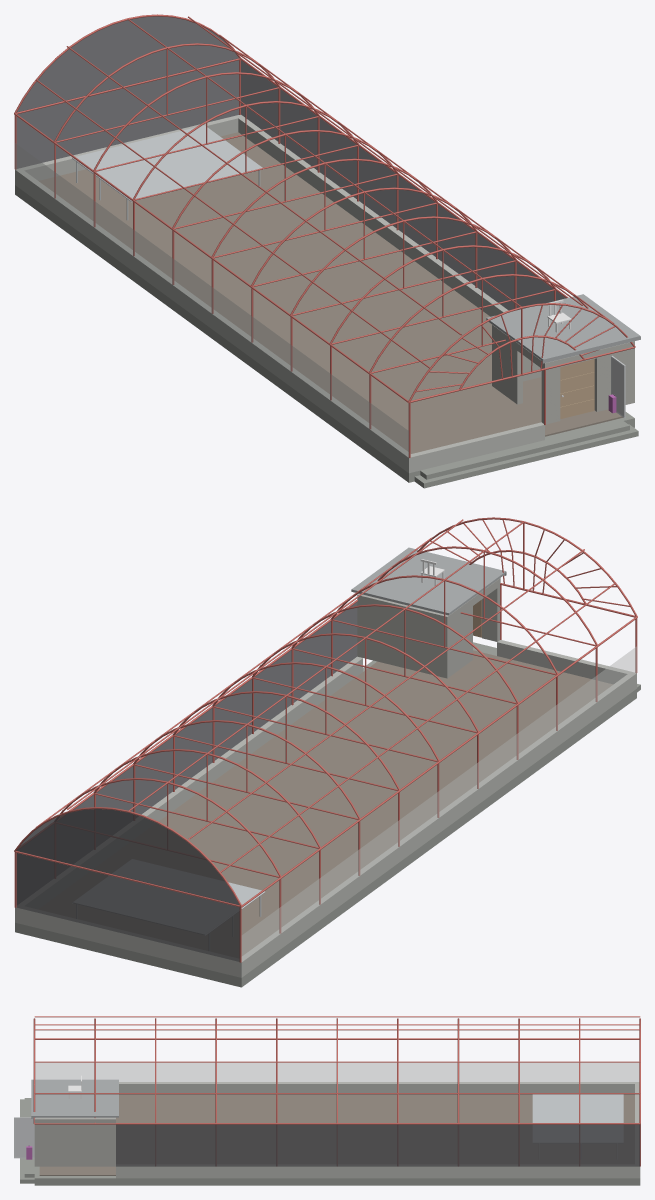
The model's file is plot17_screenhouse_3.glb.
3 renders of one model, top to bottom at view 1: azimuth 30°, elevation 25°; view 2: azimuth 150°, elevation 25°; view 3: azimuth 270°, elevation 25°, orthographic. The views are drawn at different scales.
Visible parts, largest first — view 1: SH3_Soil_Floor, SH3_Right_Shade_Net, SH3_Rear_Shade_Net_Lower, SH3_Left_Mesh_Skirt, SH3_Rear_Gable_Net, SH3_Curb_Left, SH3_Bench_Mesh_Top, SH3_Vest_Corrugated_Roof, SH3_Curb_Right_Rear, SH3_Footing_Main, SH3_Curb_Front_Left, SH3_Entrance_Step2 (+25 smaller); view 2: SH3_Soil_Floor, SH3_Rear_Shade_Net_Lower, SH3_Right_Shade_Net, SH3_Left_Mesh_Skirt, SH3_Rear_Gable_Net, SH3_Curb_Left, SH3_Bench_Mesh_Top, SH3_Footing_Main, SH3_Curb_Right_Rear, SH3_Vest_Wall_Rear, SH3_Vest_Corrugated_Roof, SH3_Curb_Rear (+21 smaller); view 3: SH3_Soil_Floor, SH3_Right_Shade_Net, SH3_Left_Mesh_Skirt, SH3_Curb_Right_Rear, SH3_Curb_Left, SH3_Footing_Main, SH3_Bench_Mesh_Top, SH3_Vest_Wall_Right, SH3_Vest_Corrugated_Roof, SH3_Eave_Beam_Right, SH3_Purlin_Upper_L, SH3_Purlin_Upper_R (+11 smaller).
Part boxes in pixels (x1=…): SH3_Soil_Floor: x1=39, y1=132, x2=622, y2=453; SH3_Right_Shade_Net: x1=241, y1=60, x2=565, y2=310; SH3_Rear_Shade_Net_Lower: x1=16, y1=60, x2=238, y2=168; SH3_Left_Mesh_Skirt: x1=15, y1=143, x2=408, y2=457; SH3_Rear_Gable_Net: x1=17, y1=16, x2=238, y2=112; SH3_Curb_Left: x1=15, y1=168, x2=414, y2=472; SH3_Bench_Mesh_Top: x1=73, y1=125, x2=263, y2=201; SH3_Vest_Corrugated_Roof: x1=486, y1=294, x2=640, y2=361; SH3_Curb_Right_Rear: x1=235, y1=115, x2=508, y2=316; SH3_Footing_Main: x1=15, y1=185, x2=634, y2=482; SH3_Curb_Front_Left: x1=405, y1=422, x2=544, y2=473; SH3_Entrance_Step2: x1=420, y1=421, x2=629, y2=479; SH3_Soil_Floor: x1=39, y1=650, x2=612, y2=957; SH3_Rear_Shade_Net_Lower: x1=16, y1=853, x2=239, y2=961; SH3_Right_Shade_Net: x1=73, y1=602, x2=357, y2=814; SH3_Left_Mesh_Skirt: x1=241, y1=646, x2=636, y2=961; SH3_Rear_Gable_Net: x1=16, y1=809, x2=239, y2=905; SH3_Curb_Left: x1=235, y1=672, x2=636, y2=977; SH3_Bench_Mesh_Top: x1=73, y1=859, x2=264, y2=934; SH3_Footing_Main: x1=15, y1=648, x2=636, y2=987; SH3_Curb_Right_Rear: x1=15, y1=656, x2=362, y2=923; SH3_Vest_Wall_Rear: x1=357, y1=593, x2=450, y2=677; SH3_Vest_Corrugated_Roof: x1=351, y1=547, x2=506, y2=615; SH3_Curb_Rear: x1=15, y1=906, x2=244, y2=977; SH3_Soil_Floor: x1=39, y1=1094, x2=634, y2=1175; SH3_Right_Shade_Net: x1=116, y1=1124, x2=640, y2=1166; SH3_Left_Mesh_Skirt: x1=35, y1=1061, x2=639, y2=1081; SH3_Curb_Right_Rear: x1=116, y1=1165, x2=640, y2=1178; SH3_Curb_Left: x1=119, y1=1082, x2=639, y2=1094; SH3_Footing_Main: x1=34, y1=1166, x2=640, y2=1185; SH3_Bench_Mesh_Top: x1=532, y1=1094, x2=623, y2=1141; SH3_Vest_Wall_Right: x1=34, y1=1117, x2=115, y2=1166; SH3_Vest_Corrugated_Roof: x1=31, y1=1079, x2=118, y2=1117; SH3_Eave_Beam_Right: x1=34, y1=1123, x2=640, y2=1124; SH3_Purlin_Upper_L: x1=34, y1=1016, x2=640, y2=1017; SH3_Purlin_Upper_R: x1=34, y1=1061, x2=640, y2=1062.
Size of the model in its own units: 6.29 by 3.87 by 19.26.
